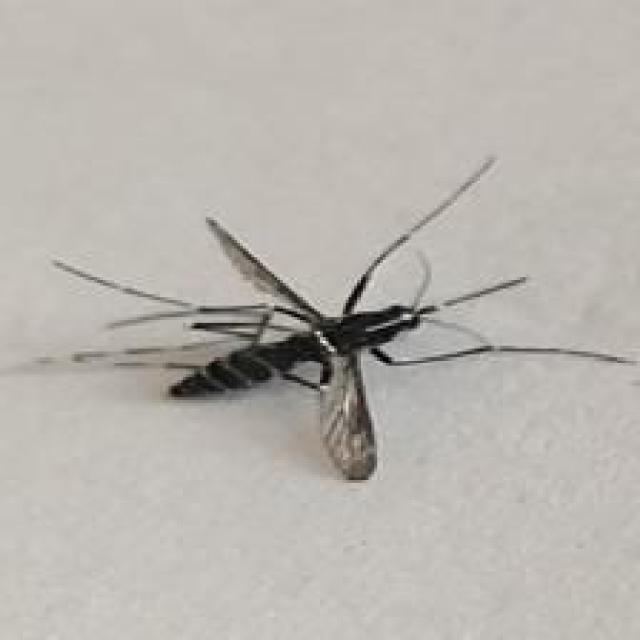Aedes albopictus: (34, 151, 640, 483)
